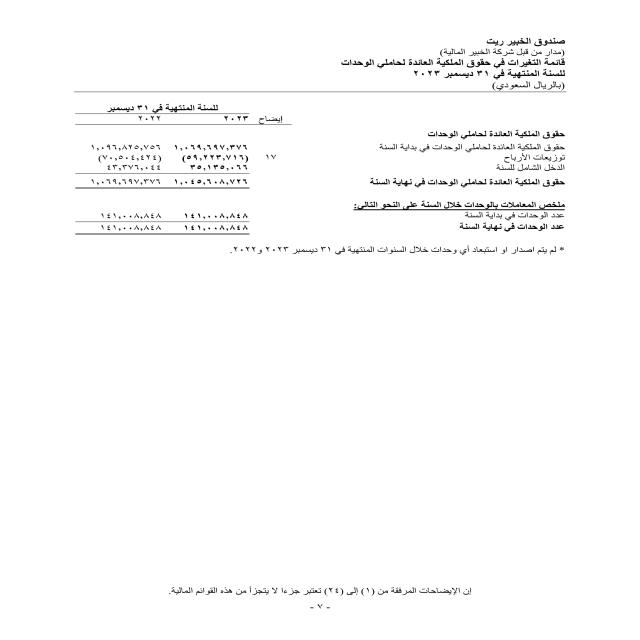financial_sheets: (334, 59, 568, 70)
table: (42, 95, 297, 244)
